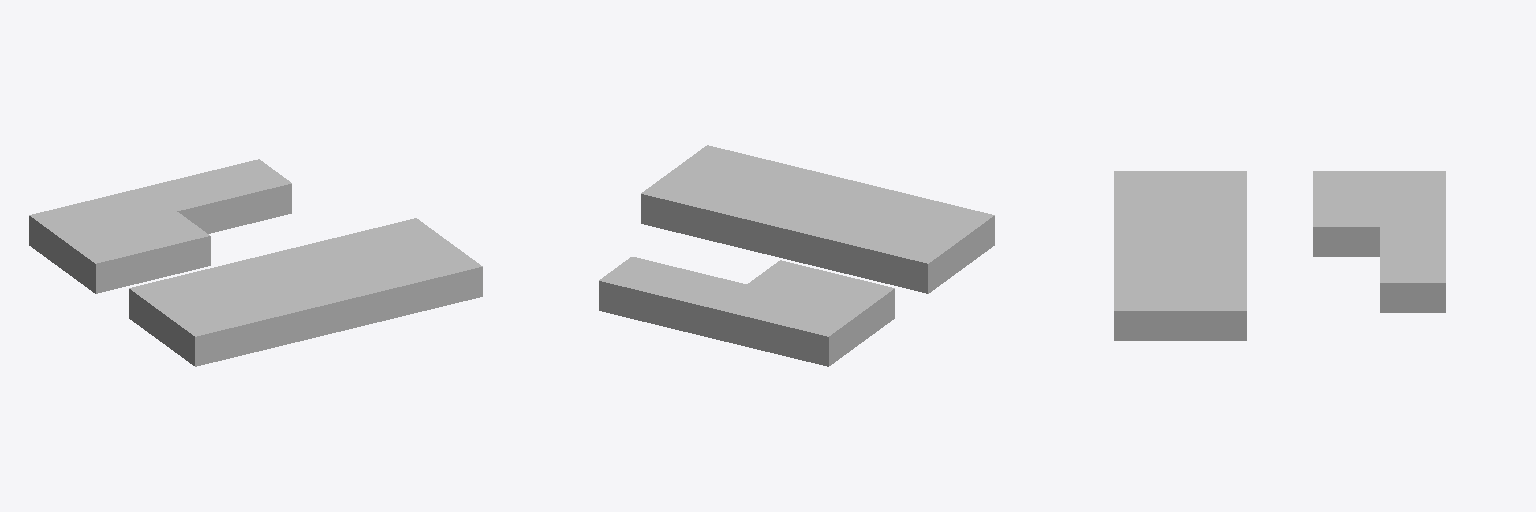
Rendered from 4f_block.obj.
3 views of the same model, side by side, from view 1: azimuth 30°, elevation 25°; view 2: azimuth 150°, elevation 25°; view 3: azimuth 270°, elevation 25° (orthographic).
Parts seen in each view (by area): view 1: foil.block.0.0_block.2670, foil.block.0.3_block.2672, foil.block.4.0_block.2684, foil.block.1.3_block.2676, foil.block.2.0_block.2678, foil.block.1.0_block.2674, foil.block.3.0_block.2681, foil.block.3.4_block.2683, foil.block.2.4_block.2680, foil.block.0.4_block.2673, foil.block.0.1_block.2671, foil.block.1.1_block.2675 (+4 smaller); view 2: foil.block.0.1_block.2671, foil.block.0.4_block.2673, foil.block.1.1_block.2675, foil.block.2.4_block.2680, foil.block.3.1_block.2682, foil.block.4.1_block.2685, foil.block.1.4_block.2677, foil.block.2.1_block.2679, foil.block.3.4_block.2683, foil.block.0.0_block.2670, foil.block.0.3_block.2672, foil.block.2.0_block.2678 (+4 smaller); view 3: foil.block.1.3_block.2676, foil.block.4.1_block.2685, foil.block.3.4_block.2683, foil.block.4.0_block.2684, foil.block.0.1_block.2671, foil.block.0.3_block.2672, foil.block.1.1_block.2675, foil.block.2.1_block.2679, foil.block.3.1_block.2682, foil.block.0.0_block.2670, foil.block.0.4_block.2673, foil.block.1.0_block.2674 (+4 smaller).
Part boxes in pixels (x1,y1,x2,y2): foil.block.0.0_block.2670: (162, 298, 252, 366); foil.block.0.3_block.2672: (62, 226, 152, 293); foil.block.4.0_block.2684: (392, 242, 482, 310); foil.block.1.3_block.2676: (120, 212, 210, 279); foil.block.2.0_block.2678: (277, 270, 367, 338); foil.block.1.0_block.2674: (220, 285, 309, 352); foil.block.3.0_block.2681: (335, 257, 424, 324); foil.block.3.4_block.2683: (202, 159, 291, 226); foil.block.2.4_block.2680: (145, 173, 234, 233); foil.block.0.4_block.2673: (29, 201, 119, 268); foil.block.0.1_block.2671: (129, 274, 218, 341); foil.block.1.1_block.2675: (187, 260, 276, 297); foil.block.0.1_block.2671: (871, 226, 961, 293); foil.block.0.4_block.2673: (771, 298, 861, 366); foil.block.1.1_block.2675: (813, 212, 903, 279); foil.block.2.4_block.2680: (656, 270, 746, 338); foil.block.3.1_block.2682: (698, 183, 788, 251); foil.block.4.1_block.2685: (641, 169, 730, 237); foil.block.1.4_block.2677: (714, 285, 803, 352); foil.block.2.1_block.2679: (756, 198, 846, 265); foil.block.3.4_block.2683: (599, 257, 688, 324); foil.block.0.0_block.2670: (904, 201, 994, 268); foil.block.0.3_block.2672: (805, 274, 894, 341); foil.block.2.0_block.2678: (789, 173, 878, 210); foil.block.1.3_block.2676: (1313, 199, 1379, 256); foil.block.4.1_block.2685: (1180, 283, 1246, 340); foil.block.3.4_block.2683: (1380, 255, 1445, 312); foil.block.4.0_block.2684: (1114, 283, 1179, 340); foil.block.0.1_block.2671: (1180, 171, 1246, 198); foil.block.0.3_block.2672: (1313, 171, 1379, 198); foil.block.1.1_block.2675: (1180, 199, 1246, 226); foil.block.2.1_block.2679: (1180, 227, 1246, 254); foil.block.3.1_block.2682: (1180, 255, 1246, 282); foil.block.0.0_block.2670: (1114, 171, 1179, 198); foil.block.0.4_block.2673: (1380, 171, 1445, 198); foil.block.1.0_block.2674: (1114, 199, 1179, 226).
Size of the model in its own units: 10 by 1 by 10.